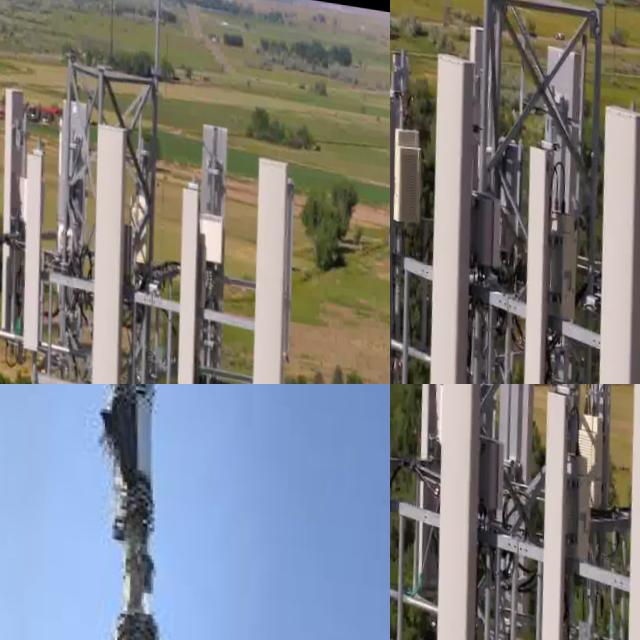GSM Antenna: (395, 31, 494, 384), (403, 384, 503, 640), (566, 81, 640, 384), (522, 33, 592, 332), (71, 99, 144, 384), (231, 135, 303, 384), (520, 384, 577, 640), (501, 124, 556, 384), (182, 101, 235, 324), (8, 140, 58, 368), (478, 384, 551, 534), (158, 175, 208, 384), (602, 384, 640, 640), (107, 384, 179, 498), (0, 84, 31, 337), (404, 384, 457, 489), (390, 75, 405, 363)
